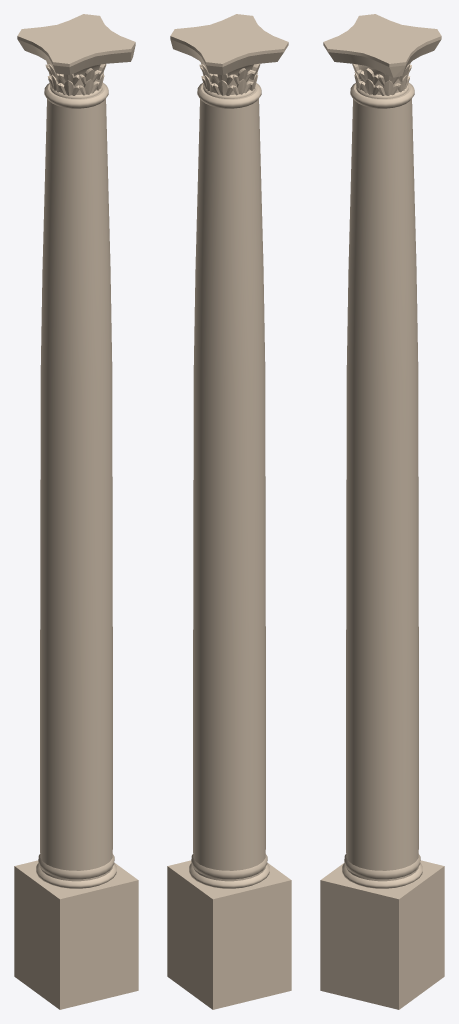
Rendered from BC_Pillar_D.fbx.
3 renders of one model, left to right at view 1: azimuth 30°, elevation 25°; view 2: azimuth 210°, elevation 25°; view 3: azimuth 330°, elevation 25°, orthographic.
Visible parts, largest first — view 1: BC_Pillar_D; view 2: BC_Pillar_D; view 3: BC_Pillar_D.
Part boxes in pixels (bbox=[...]): BC_Pillar_D: bbox=[14, 14, 138, 1009]; BC_Pillar_D: bbox=[167, 14, 291, 1009]; BC_Pillar_D: bbox=[320, 14, 444, 1009].
Bounding box in the file's own units: 97.66 × 1066 × 97.66.
